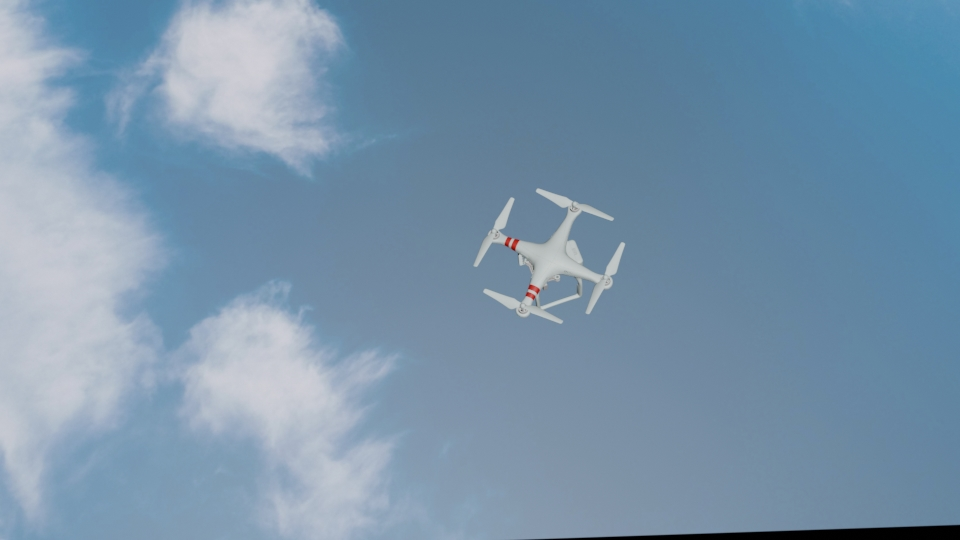drone: (471, 186, 625, 325)
